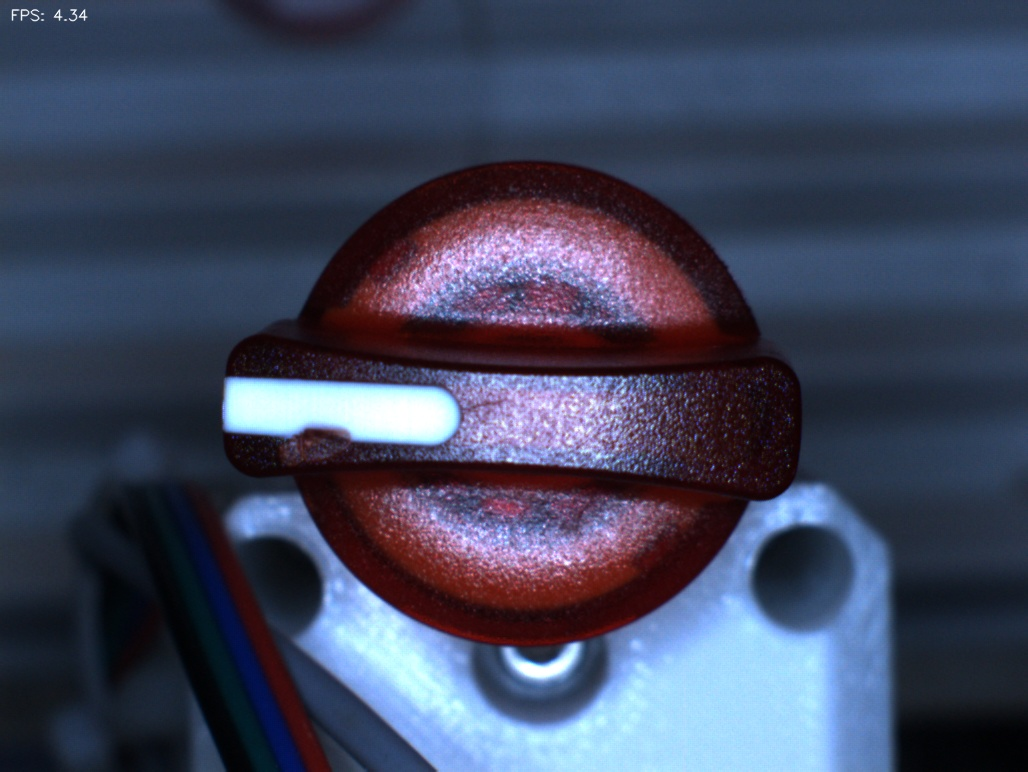Choc: (262, 401, 361, 500)
